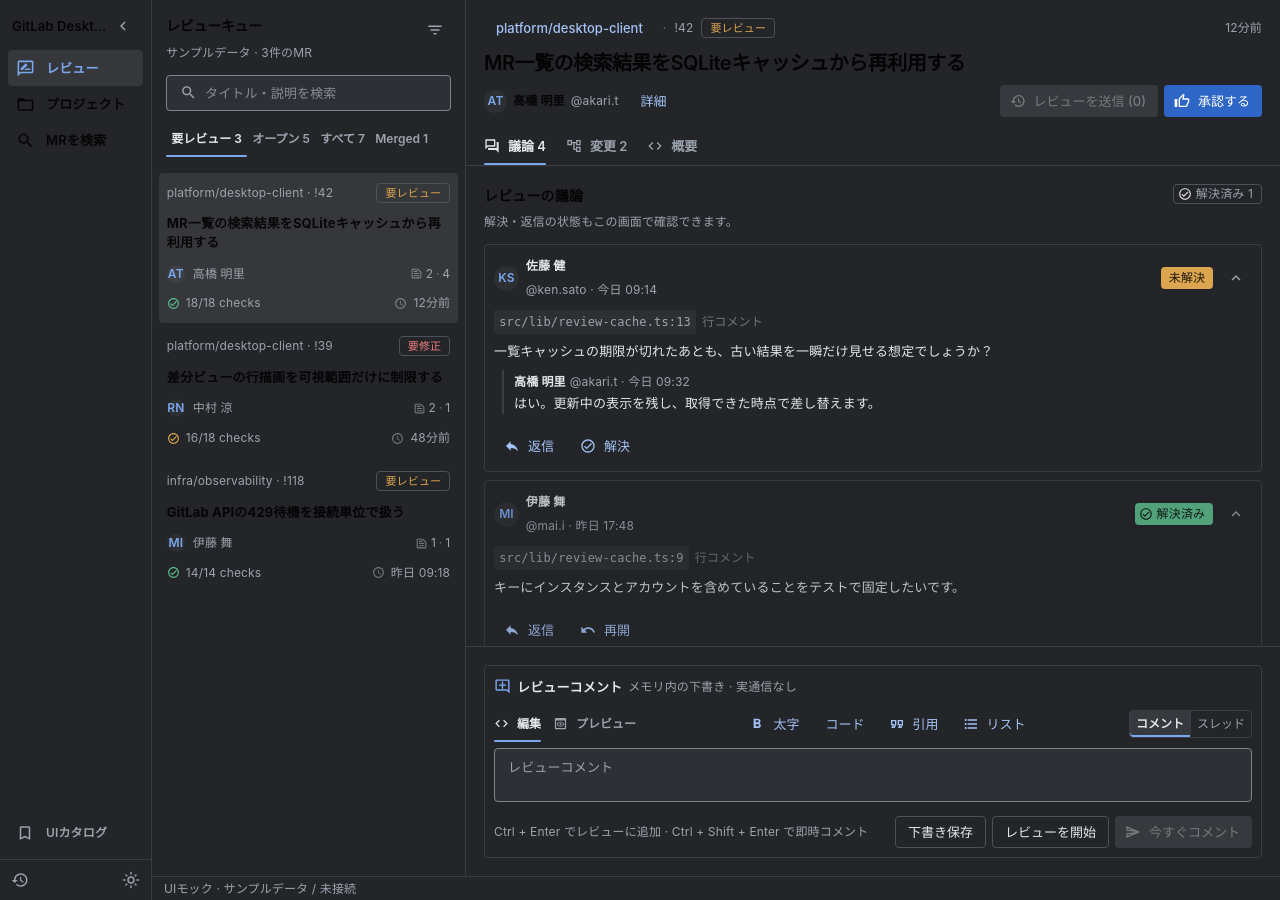
Scenario: review workspace UI mock › keeps navigation usable after collapsing the desktop sidebar
The width and height of the screenshot is (1280, 900).
Click the button named "ナビゲーションを折りたたむ" at (123, 26), box [107,10,139,42]
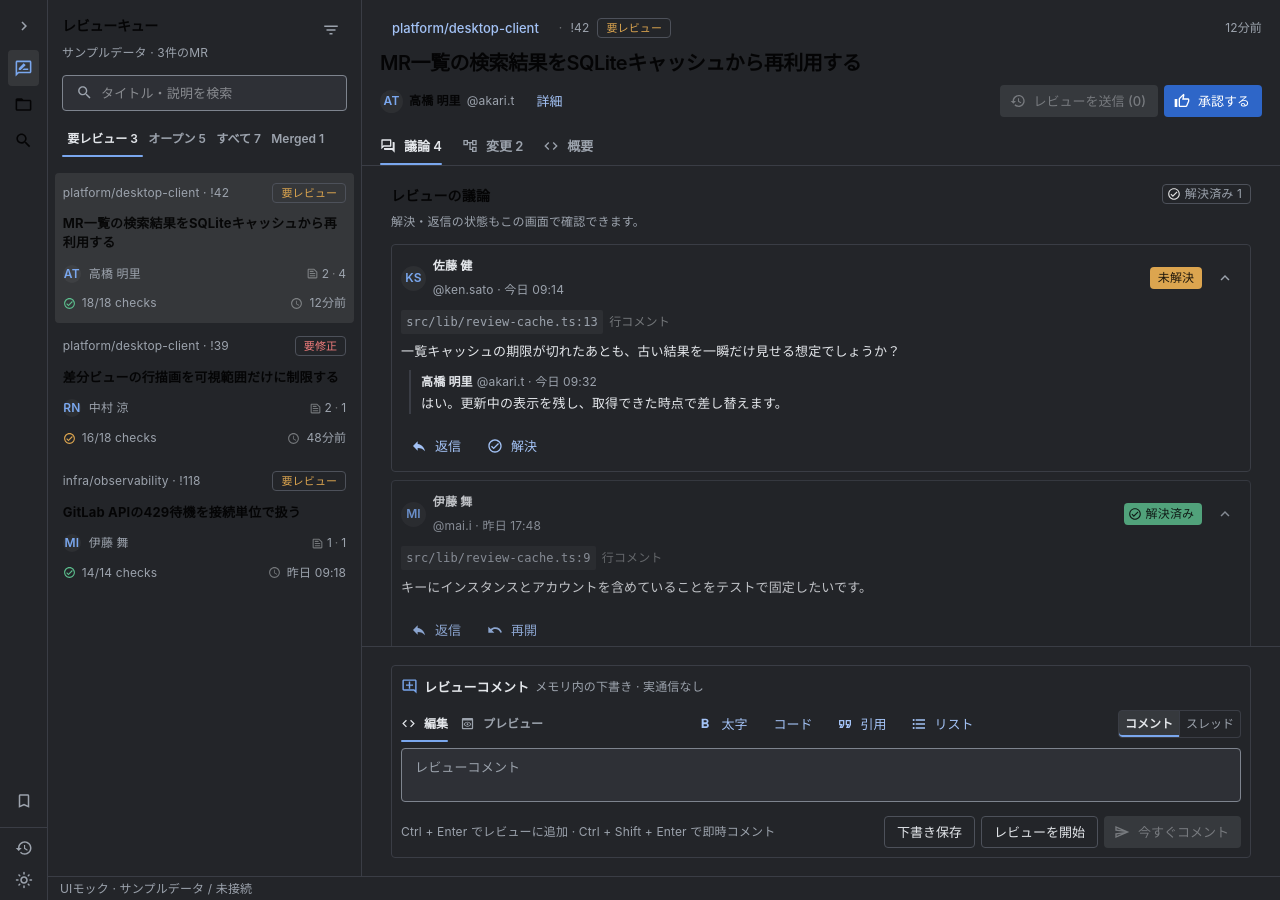
Check: the button named "ナビゲーションを展開" is shown, box [8,10,40,42]
Click the button named "プロジェクト 対象を切り替える" at (24, 104), box [14,94,33,114]
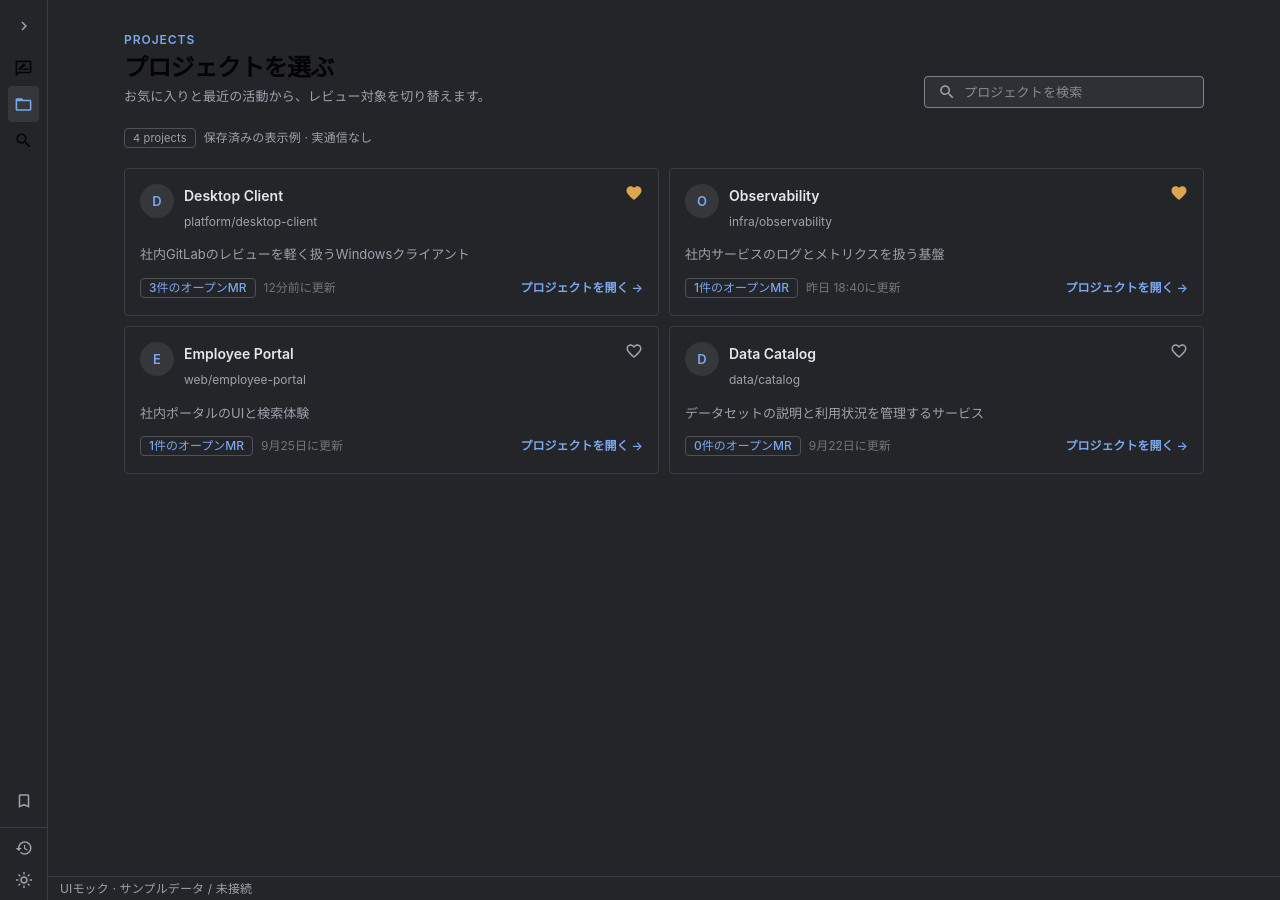
Check: the button named "ナビゲーションを展開" is shown, box [8,10,40,42]
Check: the heading "プロジェクトを選ぶ" is shown, box [124,53,334,82]
